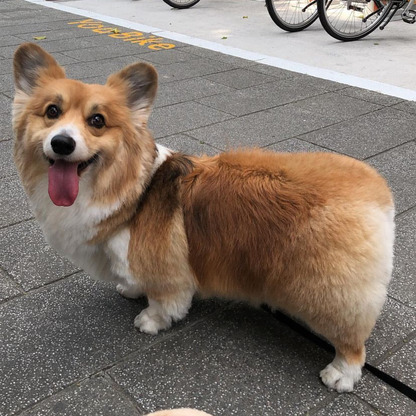Corgi: (17, 37, 400, 390)
